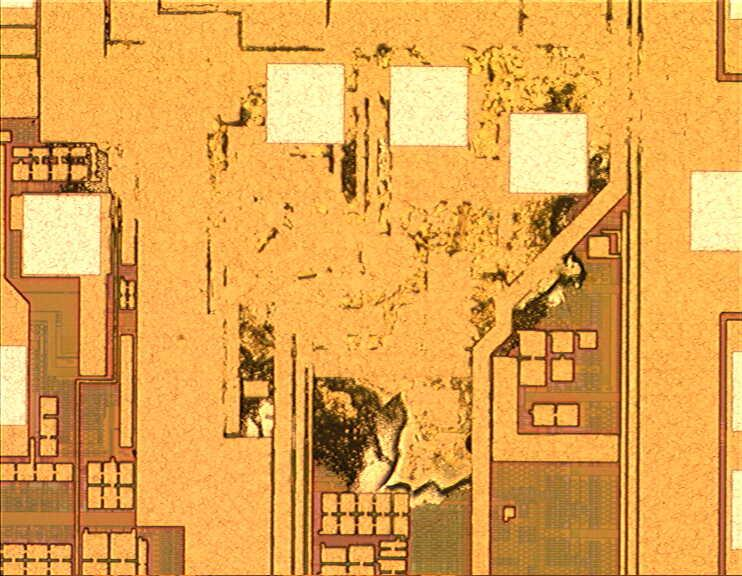BLOCK ETCH: (41, 1, 672, 528)
